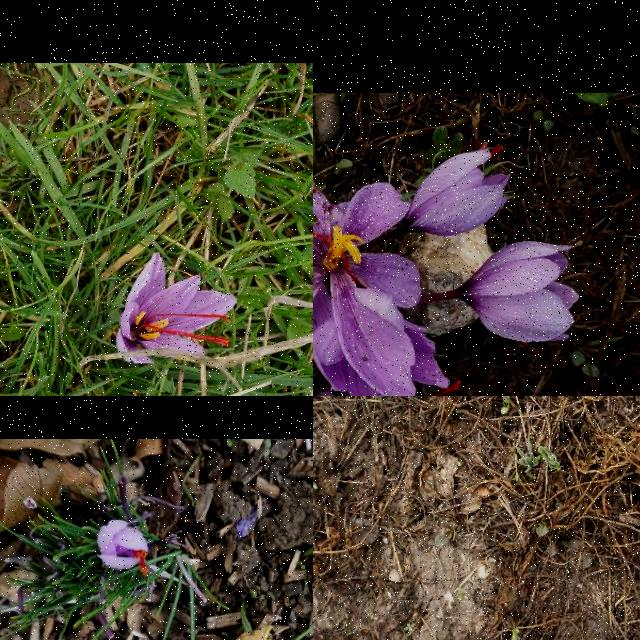flower: (313, 182, 423, 396), (116, 253, 237, 365), (453, 241, 581, 343), (409, 140, 513, 238), (97, 520, 149, 576)
overlap: (313, 139, 582, 396)
